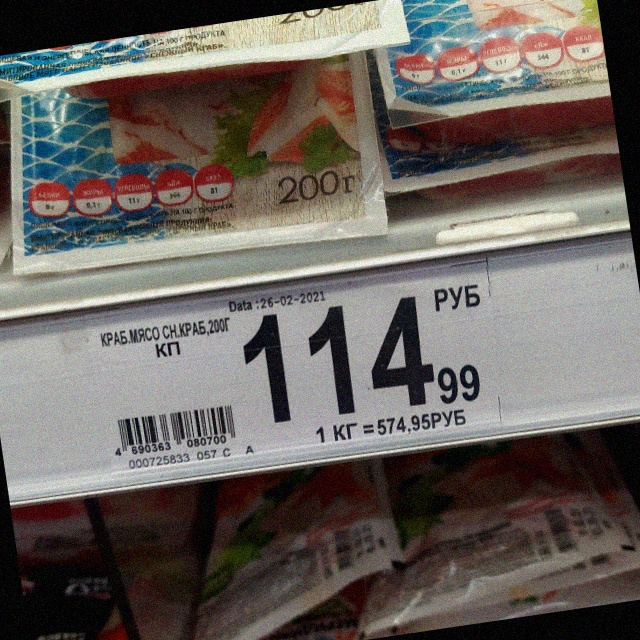barcode: (113, 405, 241, 457)
name: (98, 316, 231, 360)
price: (241, 295, 483, 425)
price_tag: (96, 257, 491, 469)
